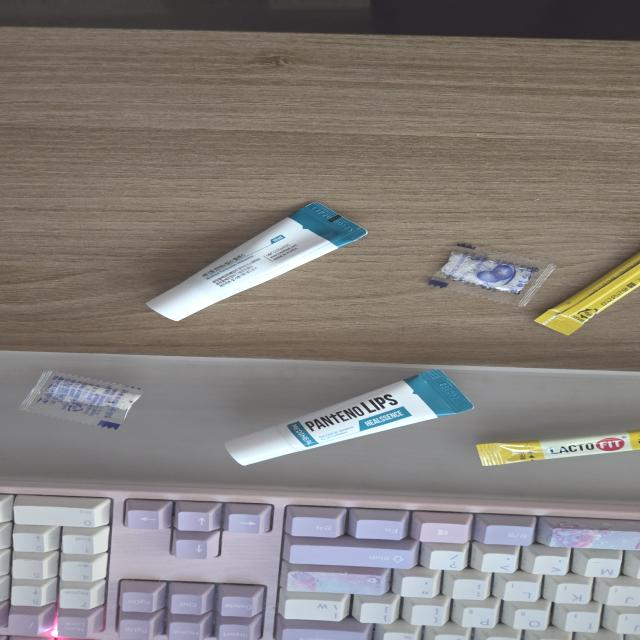lacto: (533, 249, 640, 336), (475, 430, 640, 468)
lib: (144, 200, 370, 325), (211, 366, 482, 467)
salt: (426, 240, 556, 311), (17, 370, 146, 430)
